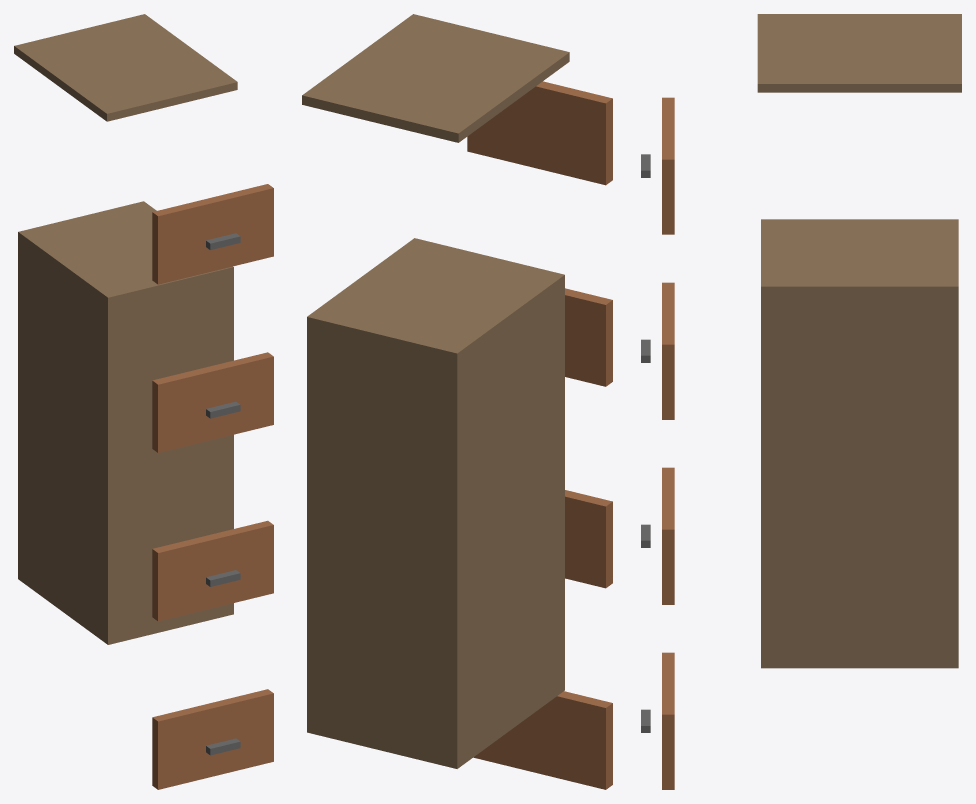
The model's file is cabinet-v1.glb.
The picture shows the model from 3 angles, left to right: view 1: azimuth 30°, elevation 25°; view 2: azimuth 150°, elevation 25°; view 3: azimuth 270°, elevation 25°; orthographic projection. The views are drawn at different scales.
Parts seen in each view (by area): view 1: cabinet_body, cabinet_top, drawer_2, drawer_3, drawer_0, drawer_1; view 2: cabinet_body, cabinet_top, drawer_3, drawer_0, drawer_1, drawer_2; view 3: cabinet_body, cabinet_top, drawer_0, drawer_1, drawer_2, drawer_3.
Boxes of the visible parts, x1,y1,x2,y2 form: cabinet_body: [18, 201, 233, 644]; cabinet_top: [14, 14, 237, 121]; drawer_2: [152, 352, 273, 452]; drawer_3: [152, 184, 273, 284]; drawer_0: [152, 689, 273, 789]; drawer_1: [152, 520, 273, 621]; cabinet_body: [307, 238, 564, 768]; cabinet_top: [302, 14, 569, 142]; drawer_3: [467, 81, 612, 185]; drawer_0: [473, 691, 612, 789]; drawer_1: [565, 490, 612, 588]; drawer_2: [565, 288, 612, 386]; cabinet_body: [761, 219, 958, 668]; cabinet_top: [757, 14, 961, 92]; drawer_0: [662, 652, 674, 789]; drawer_1: [662, 467, 674, 604]; drawer_2: [662, 282, 674, 419]; drawer_3: [662, 97, 674, 234].
Size of the model in its own units: 0.26 by 1.23 by 0.5025.
